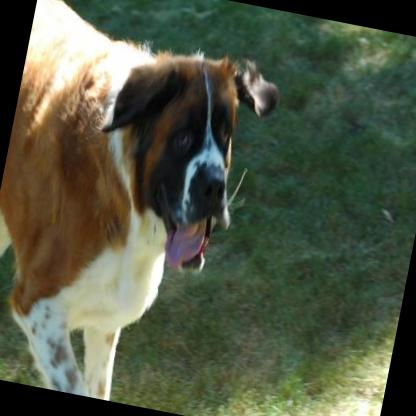Saint_Bernard: (0, 0, 290, 416)
